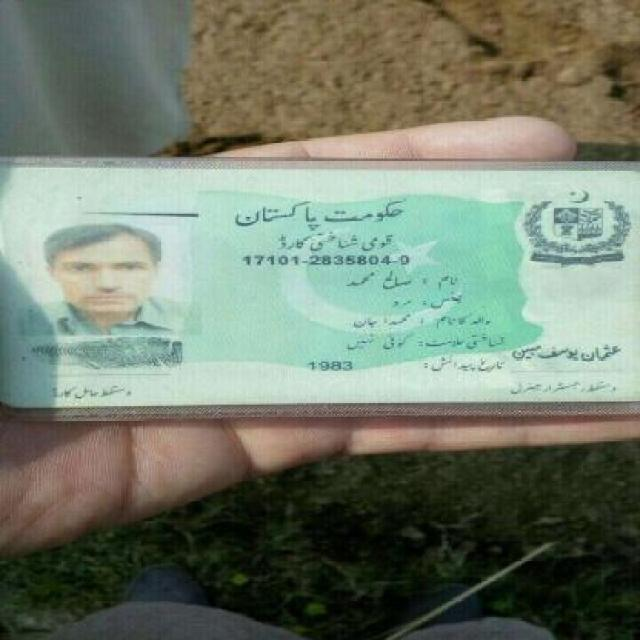Front: (6, 155, 637, 414)
